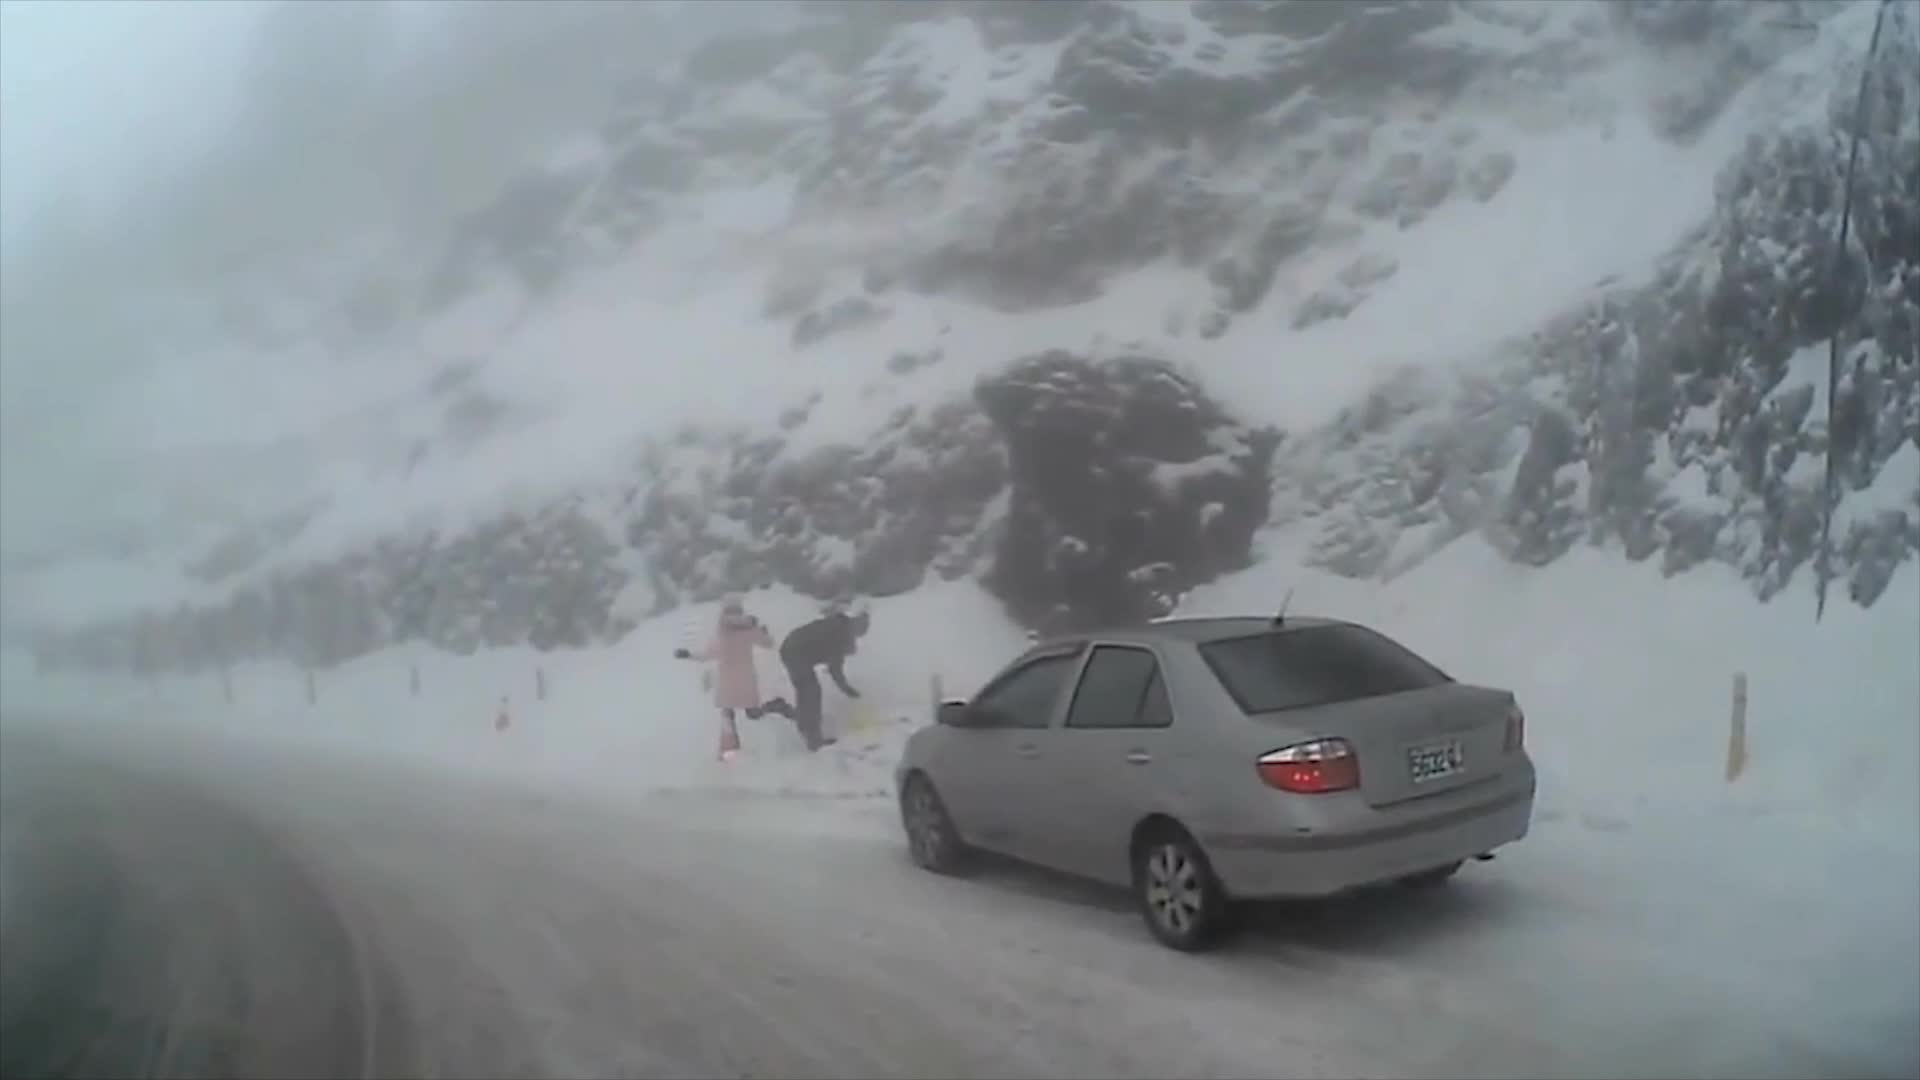pedestrian: (684, 593, 785, 759), (783, 609, 872, 752)
vehicle: (894, 614, 1535, 954)
